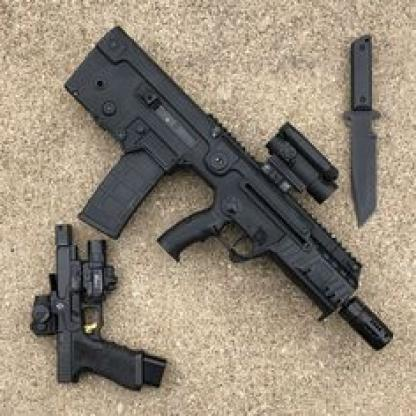Gun: (61, 23, 397, 352)
Knife: (340, 33, 382, 231)
Pistol: (29, 223, 168, 393)
